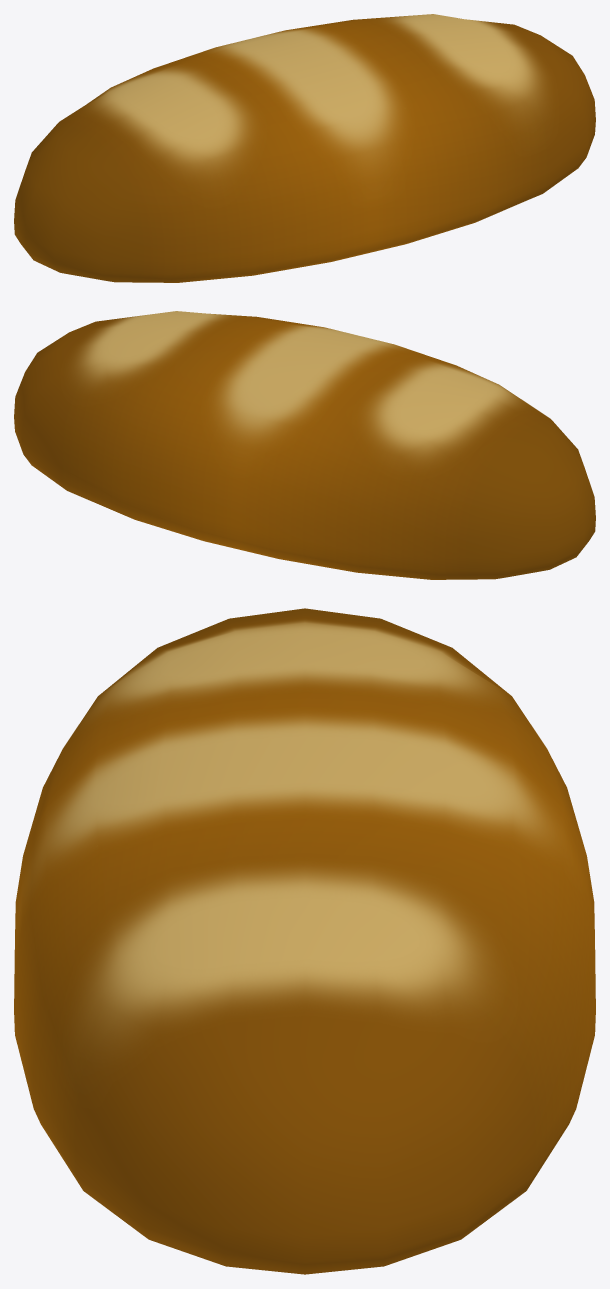
The model's file is Chleb.gltf.
The picture shows the model from 3 angles, top to bottom: view 1: azimuth 30°, elevation 25°; view 2: azimuth 150°, elevation 25°; view 3: azimuth 270°, elevation 25°; orthographic projection. The views are drawn at different scales.
Visible parts, largest first — view 1: Retopo_Cube.003; view 2: Retopo_Cube.003; view 3: Retopo_Cube.003.
Part boxes in pixels (box(x1,y1,x2,y2)): Retopo_Cube.003: box(14, 14, 595, 282); Retopo_Cube.003: box(14, 311, 595, 579); Retopo_Cube.003: box(14, 608, 595, 1274).
Size of the model in its own units: 3.84 by 0.9818 by 1.81.
1 material, 1 textured.
